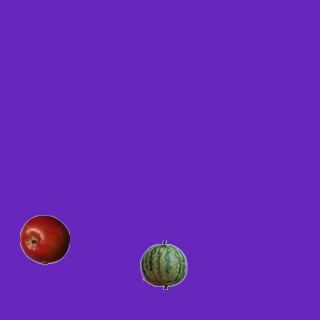Apple Braeburn: (19, 214, 69, 264)
Watermelon: (138, 239, 188, 289)
